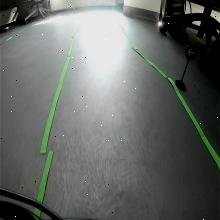left: (184, 43, 198, 61)
